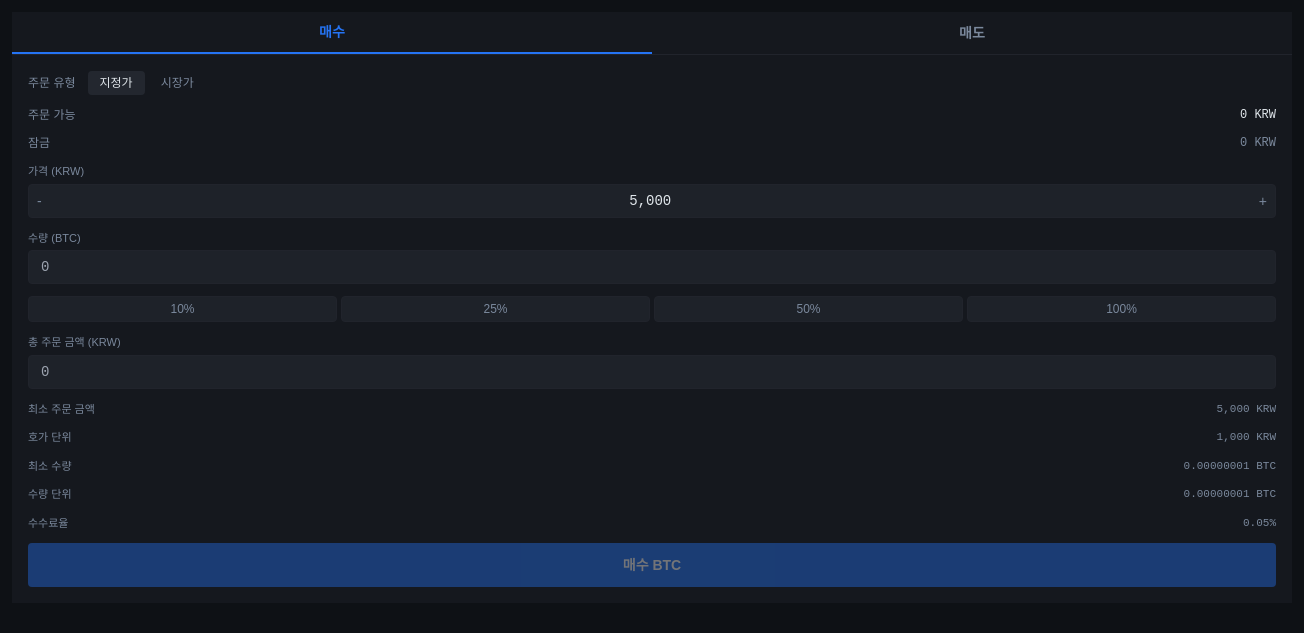
Test: OrderForm market orders › does not silently ignore percentage clicks before balances are loaded
This screenshot has width=1304, height=633.
What coordinates should you click on to do the following:
click the button "100%"
I would click on:
 (1122, 309)
Its box is [967,296,1276,322].
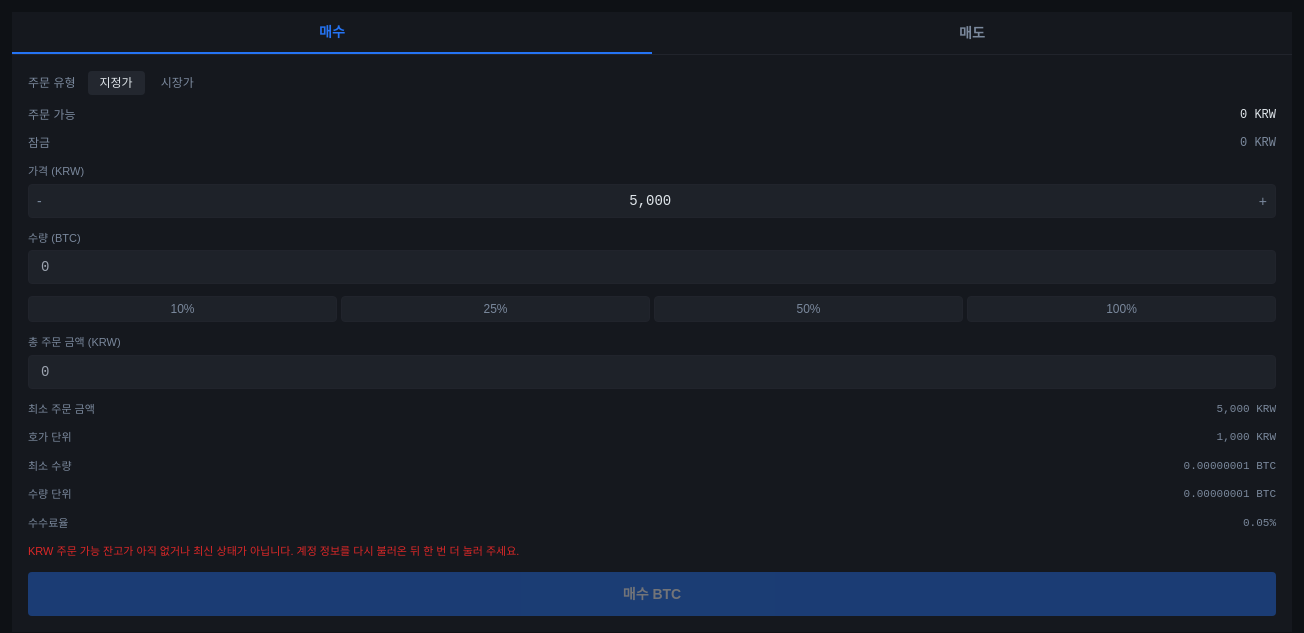
expect the text with test id "order-error" shows "KRW 주문 가능 잔고가 아직 없거나 최신 상태가 아닙니다.": met, box [28,545,519,557]
